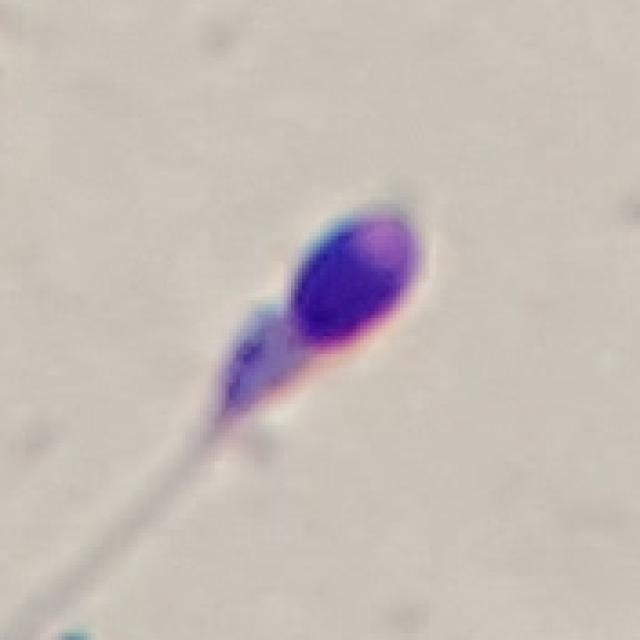abnormal sperm: (133, 209, 429, 521)
